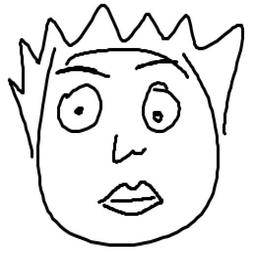cupid_mouth: (94, 179, 165, 219)
eye: (136, 78, 185, 138), (55, 81, 104, 141)
eyebrow: (52, 64, 113, 80), (129, 59, 171, 72)
nose: (106, 131, 149, 167)
